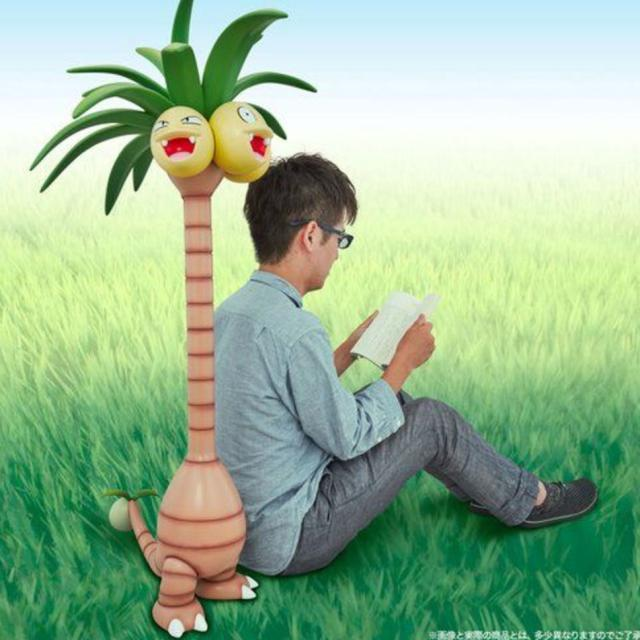Exeggutor: (126, 43, 278, 635)
